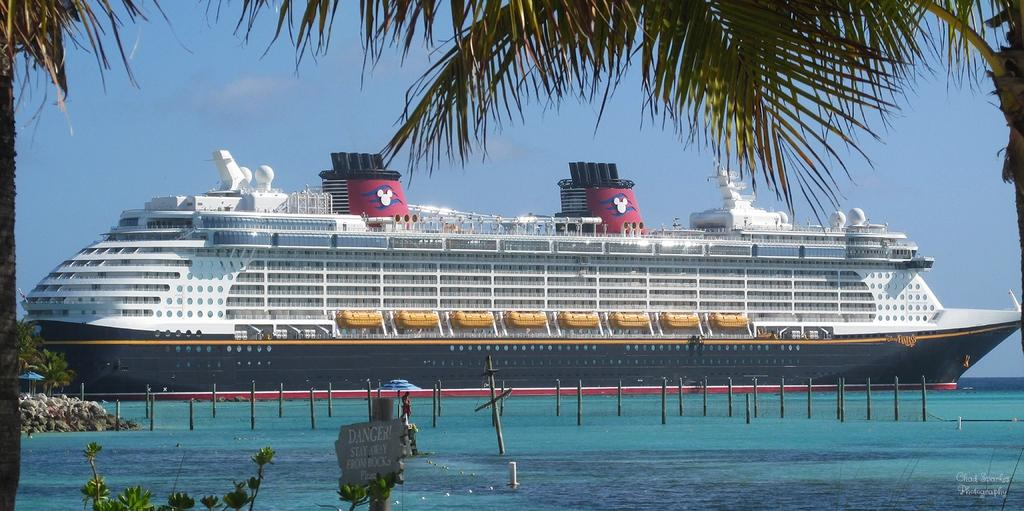PassengerShip: (4, 143, 1022, 401)
